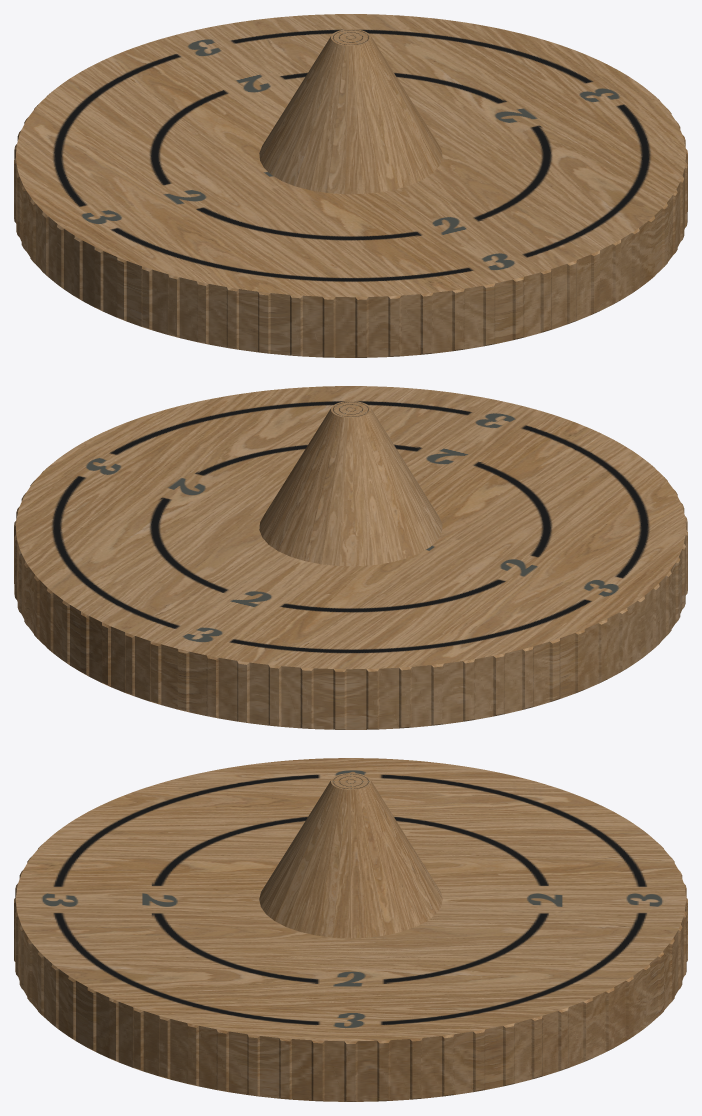
The model's file is PlatformMainCenter.fbx.
The picture shows the model from 3 angles, top to bottom: view 1: azimuth 30°, elevation 25°; view 2: azimuth 150°, elevation 25°; view 3: azimuth 270°, elevation 25°; orthographic projection.
Parts seen in each view (by area): view 1: Cylinder; view 2: Cylinder; view 3: Cylinder.
Boxes of the visible parts, left/top/right/bottom form: Cylinder: left=14, top=14, right=687, bottom=357; Cylinder: left=14, top=386, right=687, bottom=729; Cylinder: left=14, top=758, right=687, bottom=1101.
Bounding box in the file's own units: 101 × 29.43 × 101.
